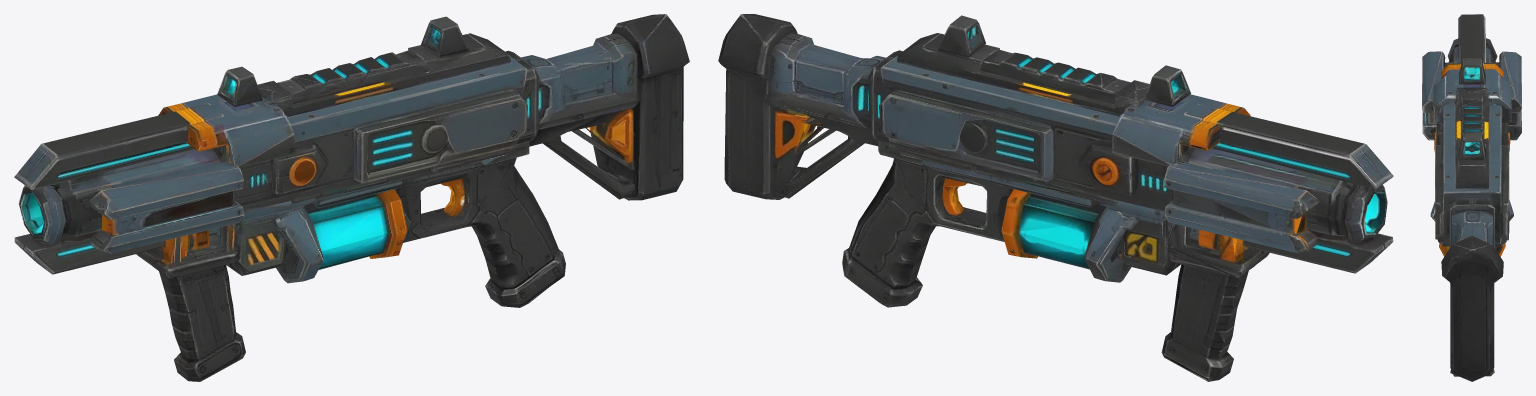
File: laser_screwdriving.glb
3 views of the same model, side by side, from view 1: azimuth 30°, elevation 25°; view 2: azimuth 150°, elevation 25°; view 3: azimuth 270°, elevation 25° (orthographic). The views are drawn at different scales.
Parts seen in each view (by area): view 1: mesh_node; view 2: mesh_node; view 3: mesh_node.
Boxes of the visible parts, x1,y1,x2,y2 form: mesh_node: (14,14,689,381); mesh_node: (718,14,1393,381); mesh_node: (1422,14,1521,381).
Bounding box in the file's own units: 1 × 0.4327 × 0.1792.
Materials: 1 (1 with a texture image).
